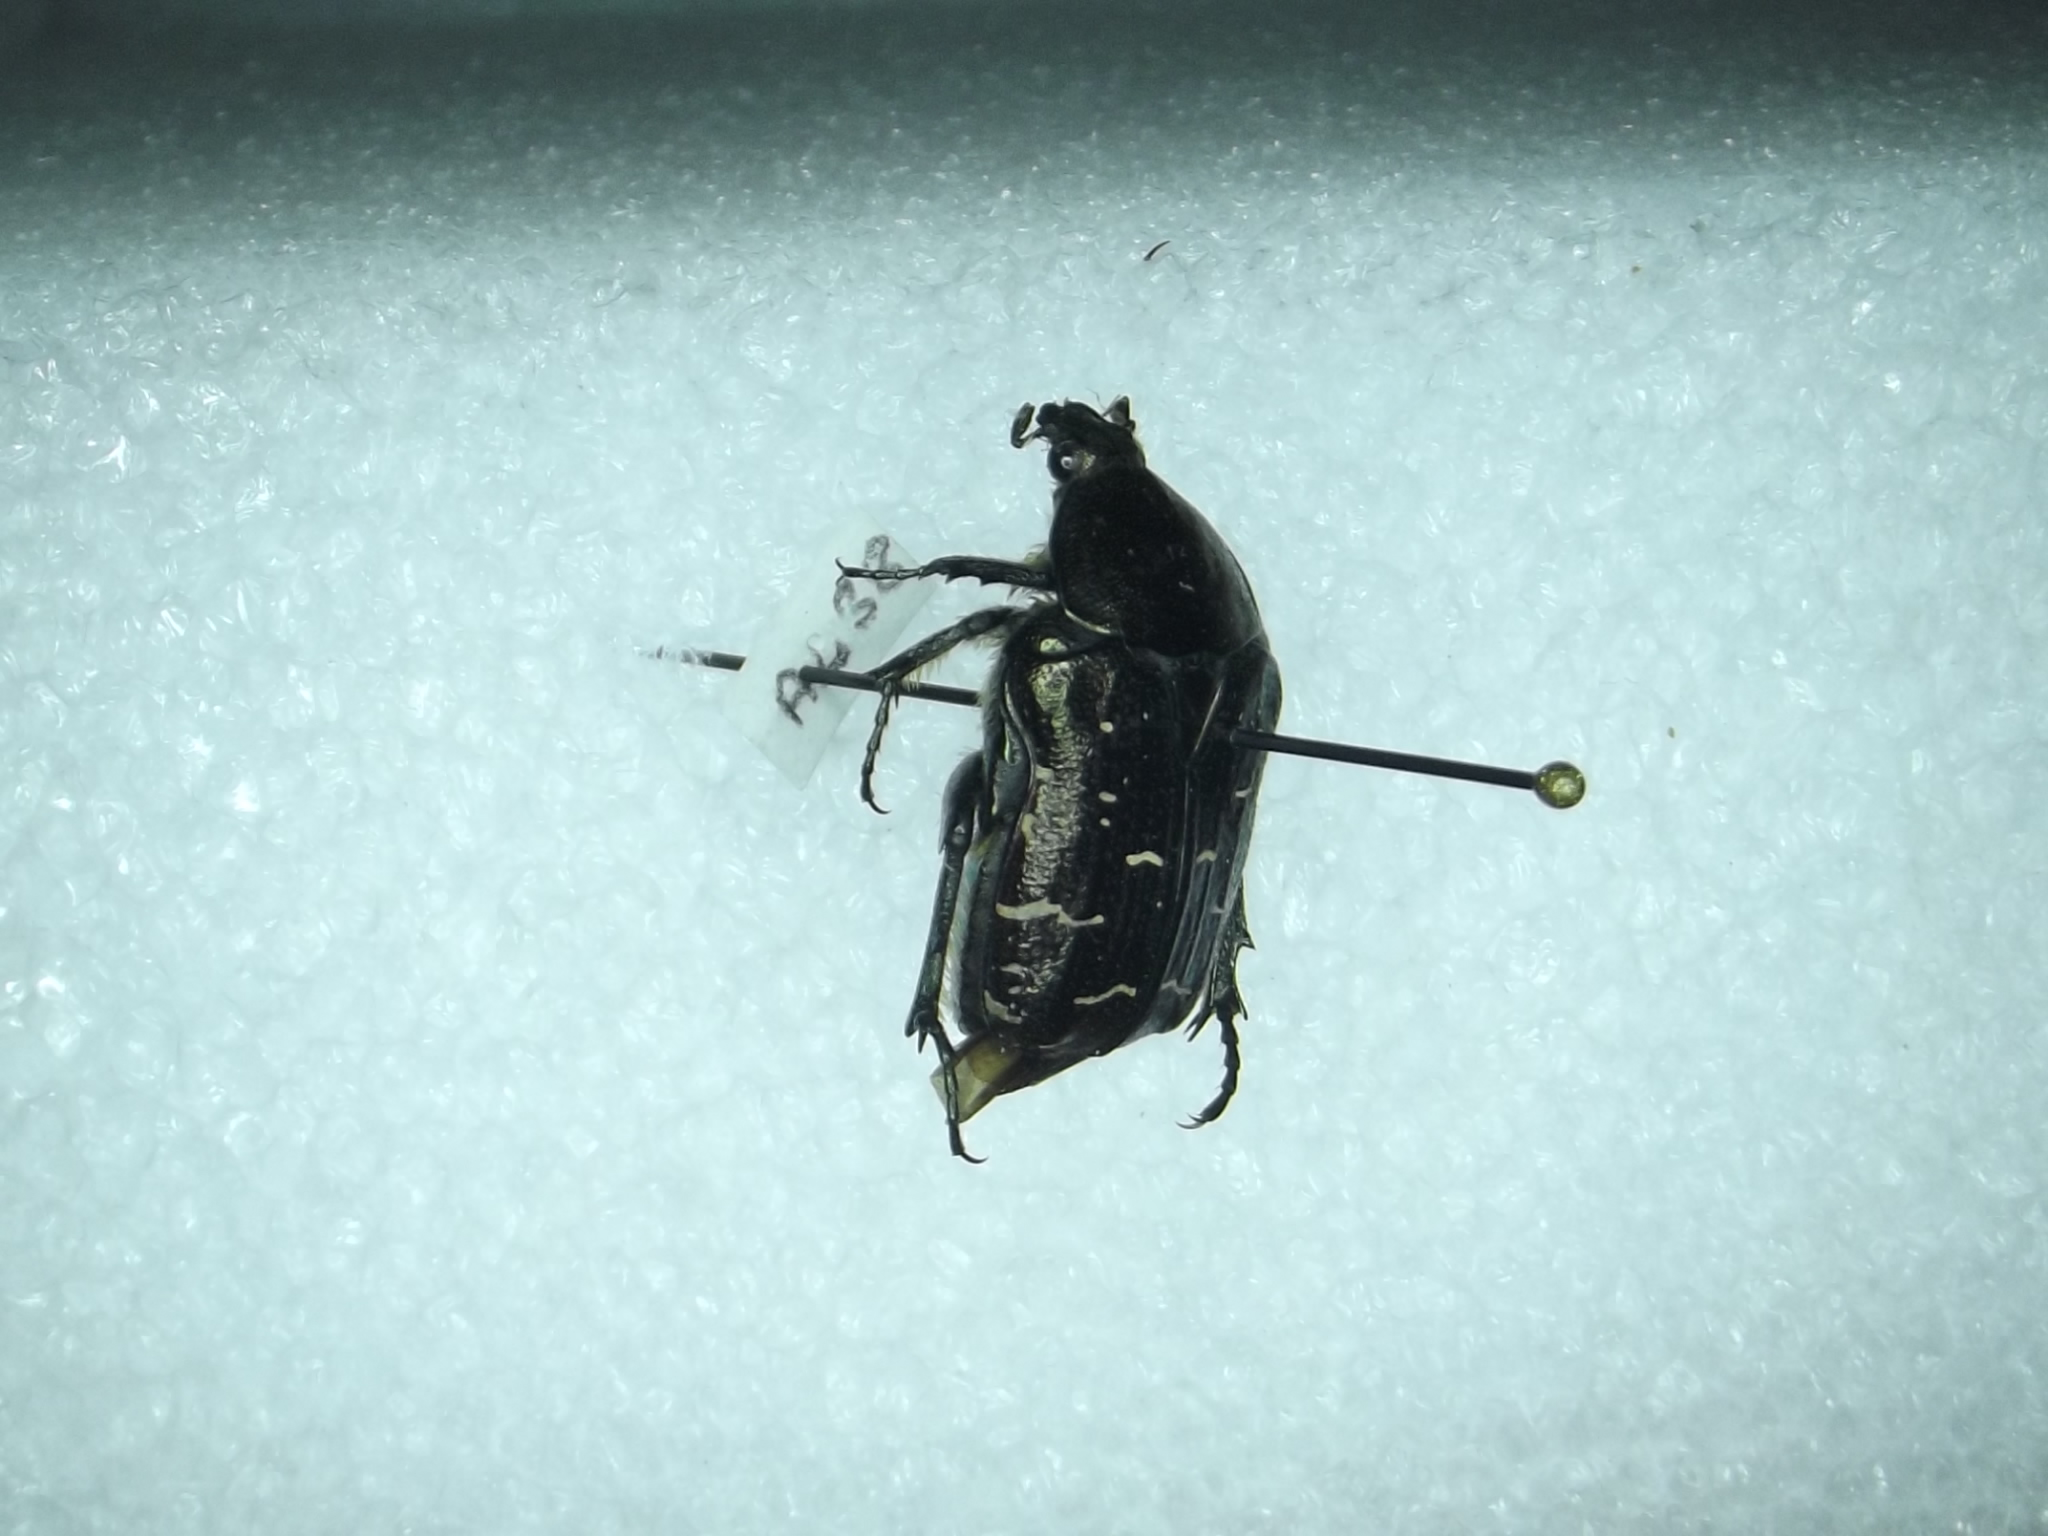Cetonia_kemali: (805, 379, 1297, 1189)
